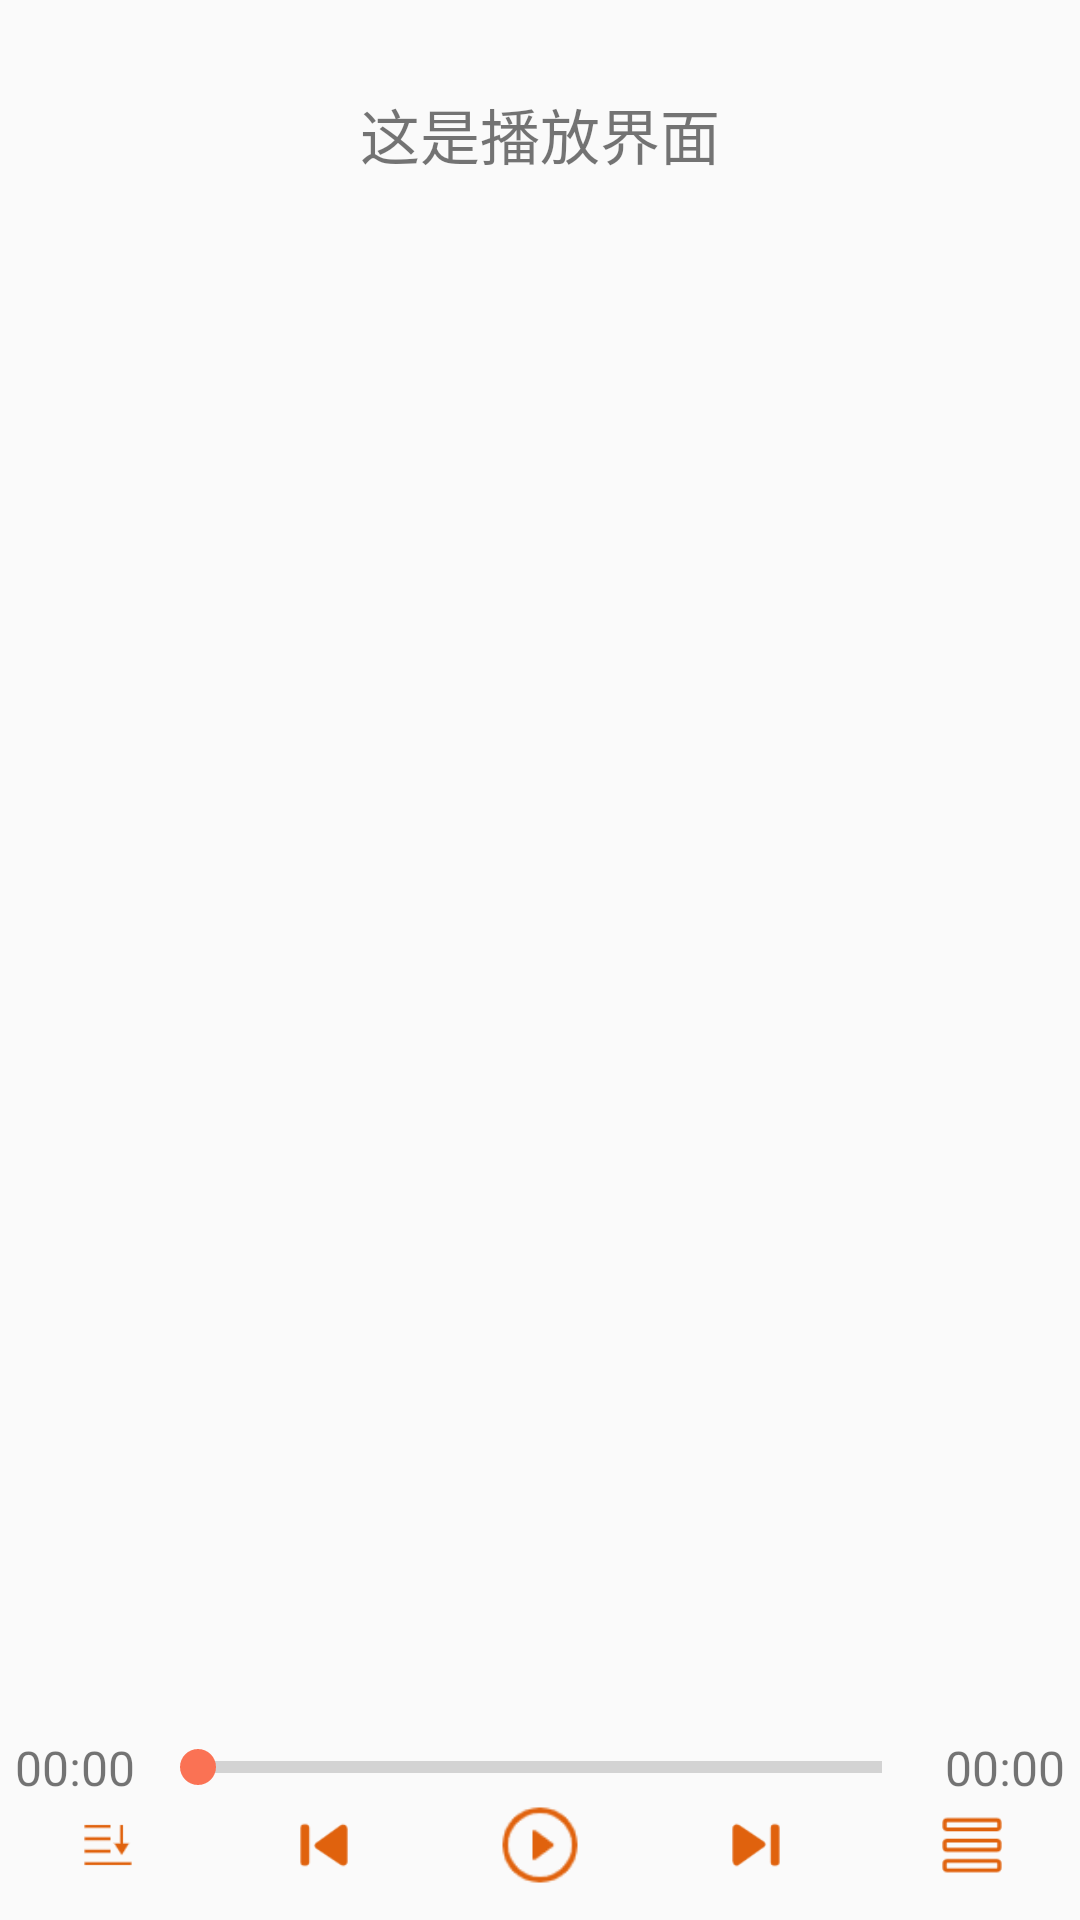

Where icons sit on this 1080*1920 app screen, as (x1, y1, x2, y2):
player next: (732, 1823, 780, 1867)
player pre: (300, 1823, 348, 1867)
track play: (502, 1807, 578, 1883)
